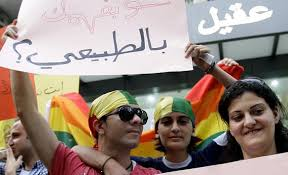middle_eastern_Female: (222, 92, 282, 148)
